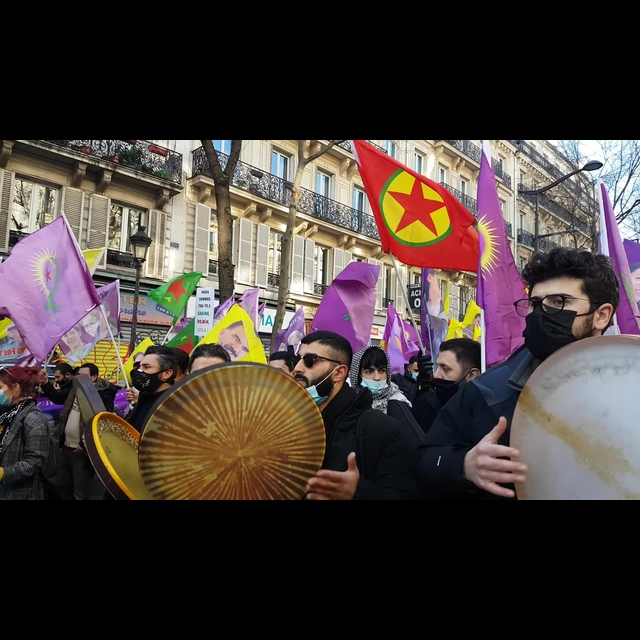PKK: (374, 164, 461, 252)
